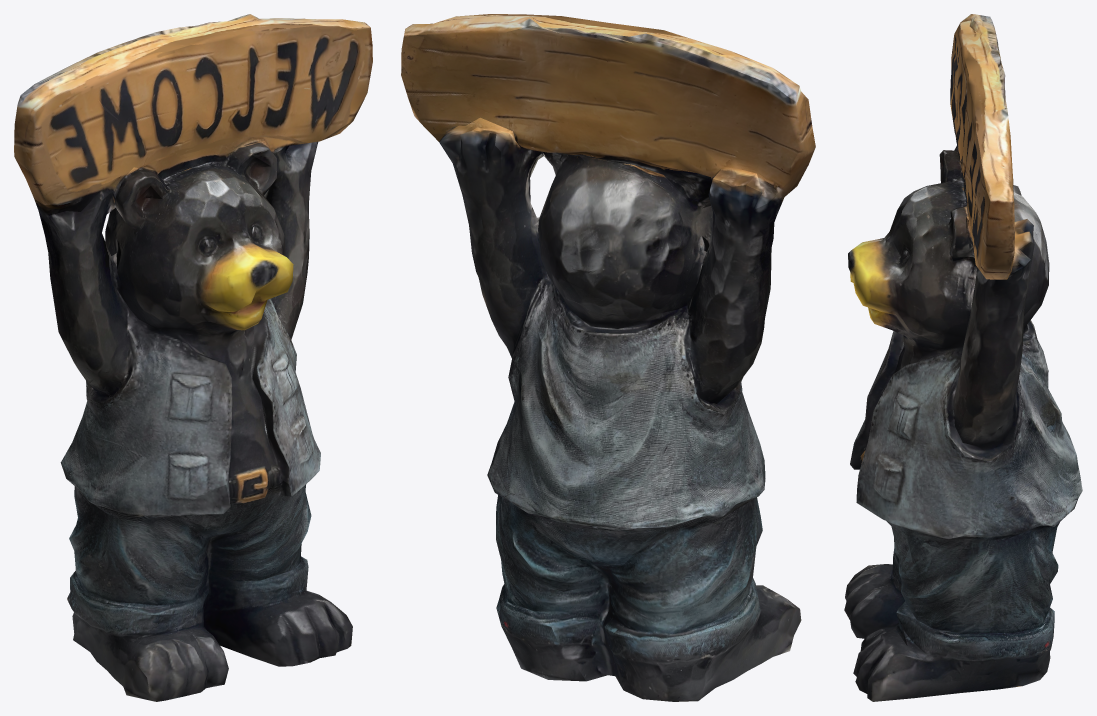
Rendered from welcomeSign.gltf.
The picture shows the model from 3 angles, left to right: view 1: azimuth 30°, elevation 25°; view 2: azimuth 150°, elevation 25°; view 3: azimuth 270°, elevation 25°; orthographic projection. The views are drawn at different scales.
Parts seen in each view (by area): view 1: geo1; view 2: geo1; view 3: geo1.
Part boxes in pixels (bbox=[...]): geo1: bbox=[14, 14, 372, 701]; geo1: bbox=[401, 14, 815, 701]; geo1: bbox=[844, 14, 1082, 701].
Size of the model in its own units: 6.45 by 10.15 by 3.77.
1 material, 1 textured.
